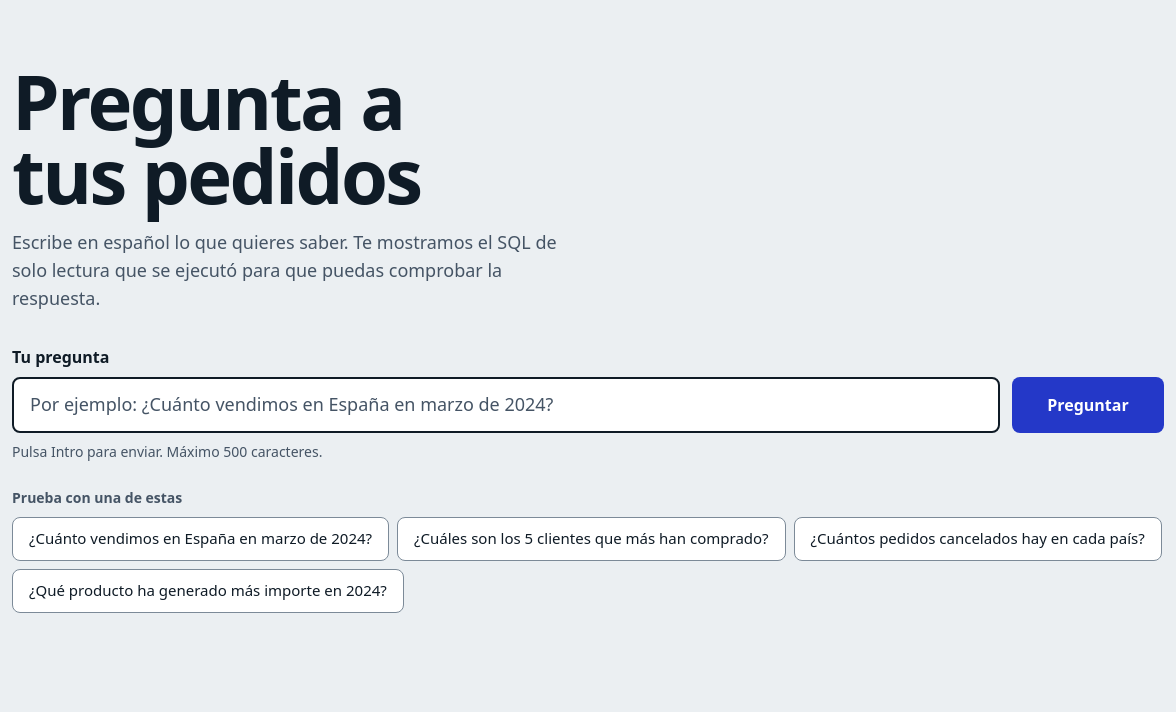
QuestionPanel › envía la pregunta de un ejemplo pulsable
Click the button "¿Cuánto vendimos en España en marzo de 2024?" at (201, 539), box left=12, top=517, right=389, bottom=561
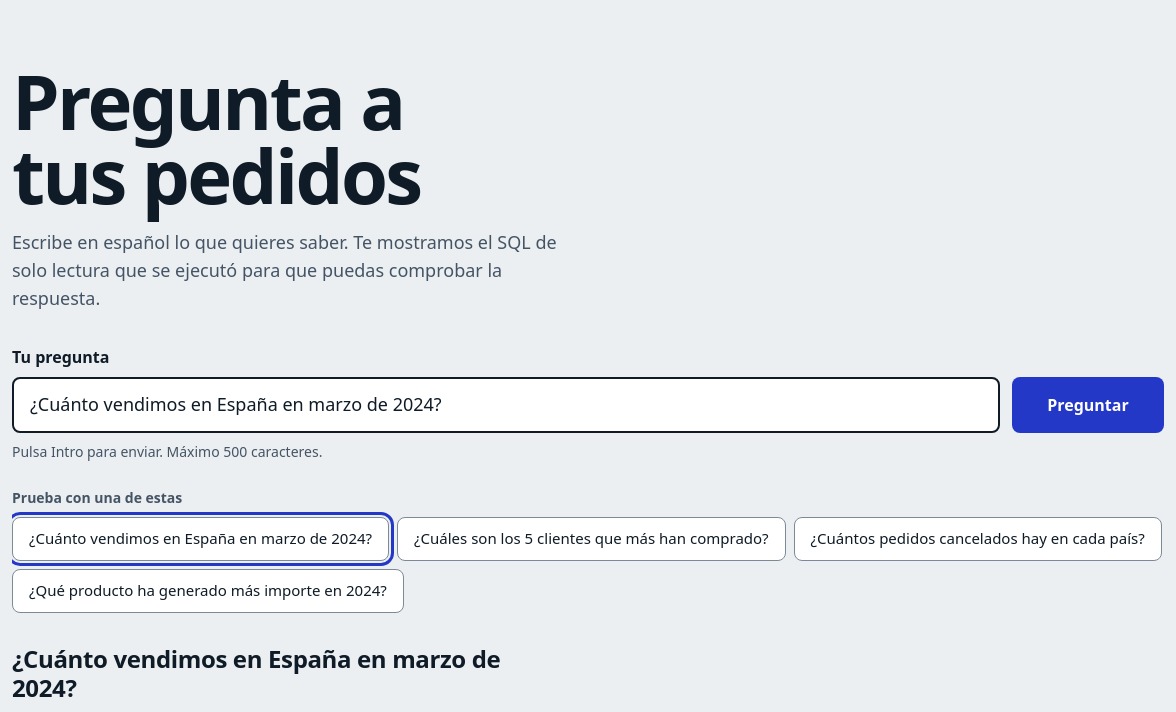
Expected: the field labelled "Tu pregunta" holds "¿Cuánto vendimos en España en marzo de 2024?", left=12, top=377, right=1000, bottom=433
